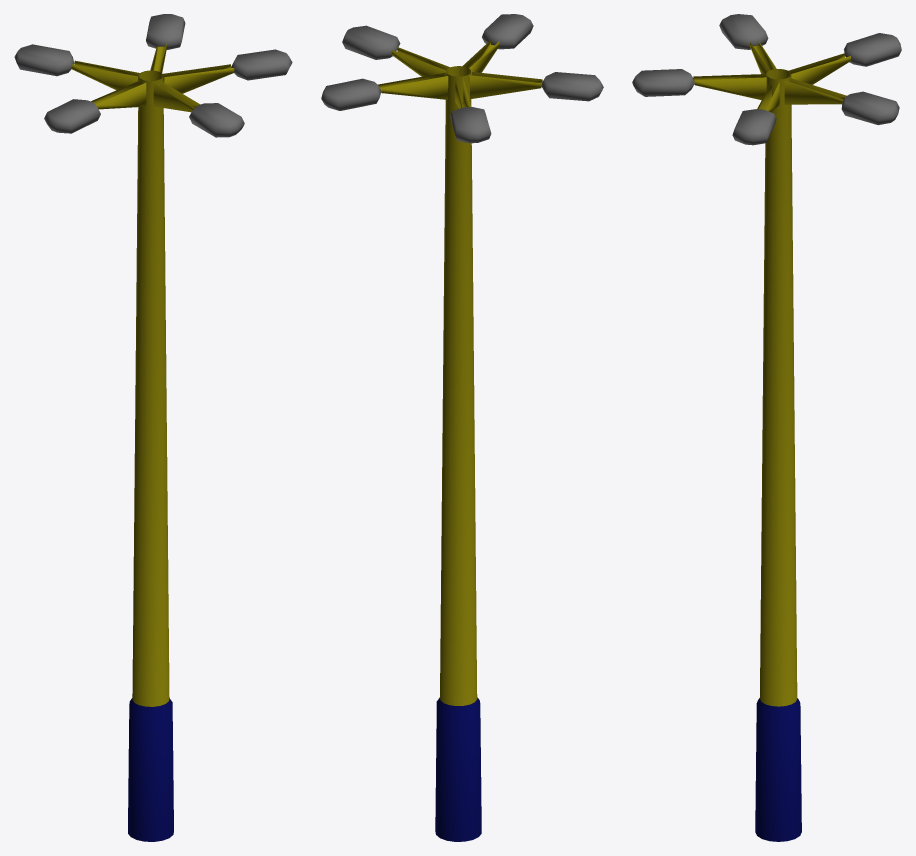
File: poste_de_luz_g.fbx
3 views of the same model, side by side, from view 1: azimuth 30°, elevation 25°; view 2: azimuth 150°, elevation 25°; view 3: azimuth 270°, elevation 25° (orthographic).
Visible parts, largest first — view 1: Poste_LOD0; view 2: Poste_LOD0; view 3: Poste_LOD0.
Part boxes in pixels (bbox=[...]): Poste_LOD0: bbox=[14, 14, 292, 841]; Poste_LOD0: bbox=[321, 14, 603, 841]; Poste_LOD0: bbox=[632, 14, 901, 841].
Size of what is drawn, in the model's own units: 3.56 by 10.39 by 3.34.
